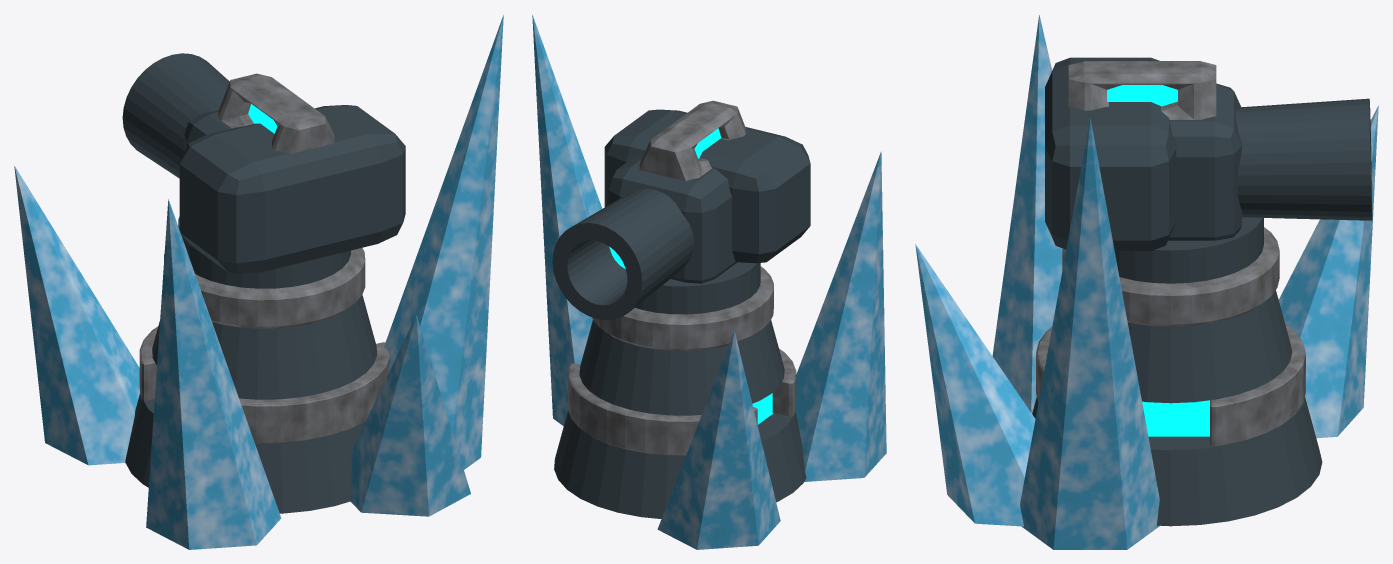
Rendered from Turm8.fbx.
The picture shows the model from 3 angles, left to right: view 1: azimuth 30°, elevation 25°; view 2: azimuth 150°, elevation 25°; view 3: azimuth 270°, elevation 25°; orthographic projection. The views are drawn at different scales.
Parts seen in each view (by area): view 1: Spike1, Canon, StoneTop; view 2: Canon, Spike1, StoneTop; view 3: Spike1, Canon, StoneTop, GlowLeft, GlowTop.
Boxes of the visible parts, left/top/right/bottom form: Spike1: left=14, top=15, right=503, bottom=549; Canon: left=122, top=53, right=405, bottom=513; StoneTop: left=139, top=73, right=389, bottom=443; Canon: left=552, top=109, right=810, bottom=518; Spike1: left=532, top=15, right=886, bottom=549; StoneTop: left=568, top=100, right=796, bottom=455; Spike1: left=915, top=15, right=1378, bottom=549; Canon: left=1032, top=57, right=1372, bottom=526; StoneTop: left=1036, top=61, right=1305, bottom=446; GlowLeft: left=1142, top=400, right=1209, bottom=436; GlowTop: left=1107, top=85, right=1177, bottom=106.
Size of the model in its own units: 608 by 681 by 628.
Materials: 4 (2 with a texture image).
